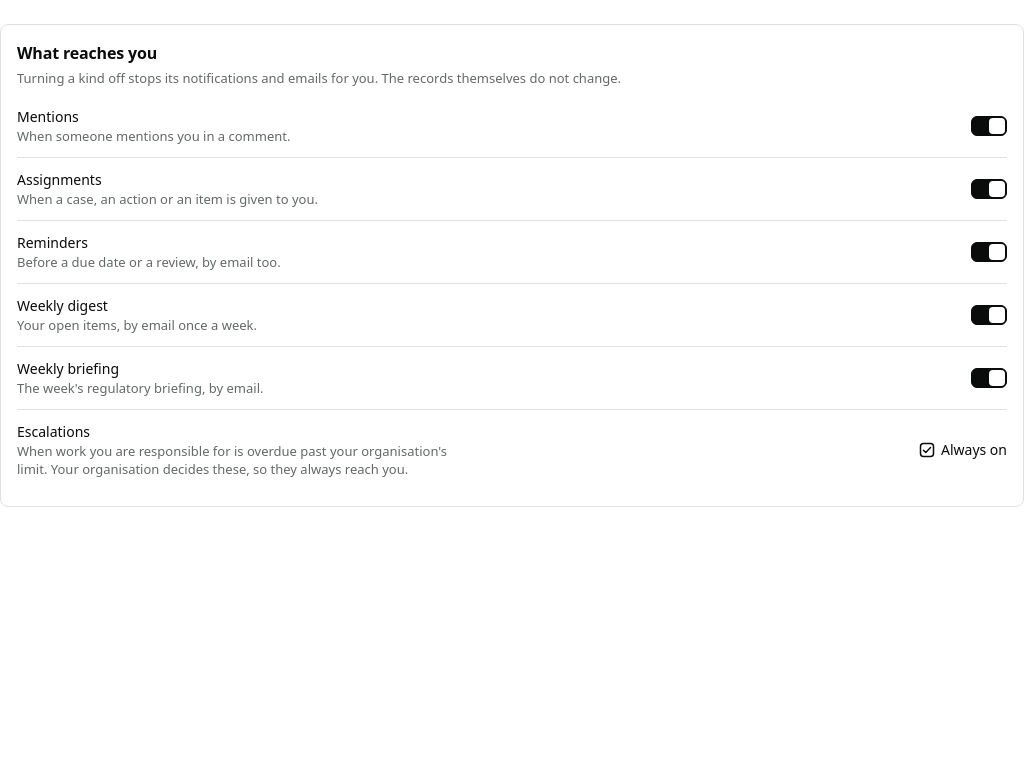
Scenario: notification preferences › puts the switch back and says so when the save does not reach the server
Click the switch named "Mentions" in the row of "When someone mentions you in a comment.". click: (989, 126)
box: x1=971 y1=116 x2=1007 y2=136
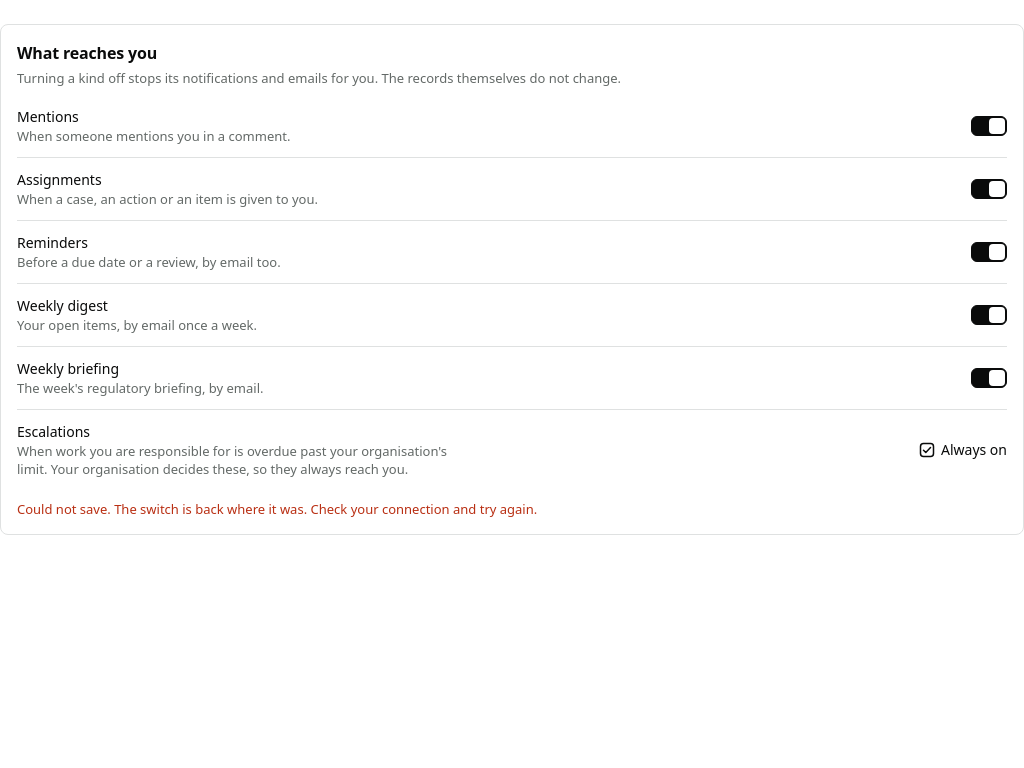
Now the message shows "Could not save. The switch is back where it was. Check your connection and try again.", box x1=17 y1=500 x2=537 y2=518
